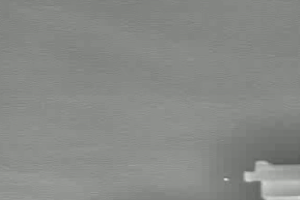Target: (224, 178, 228, 180)
